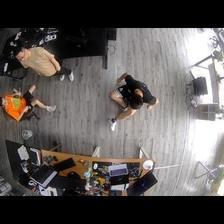fall: (108, 72, 160, 131)
normal: (14, 46, 75, 82), (1, 87, 58, 122)
